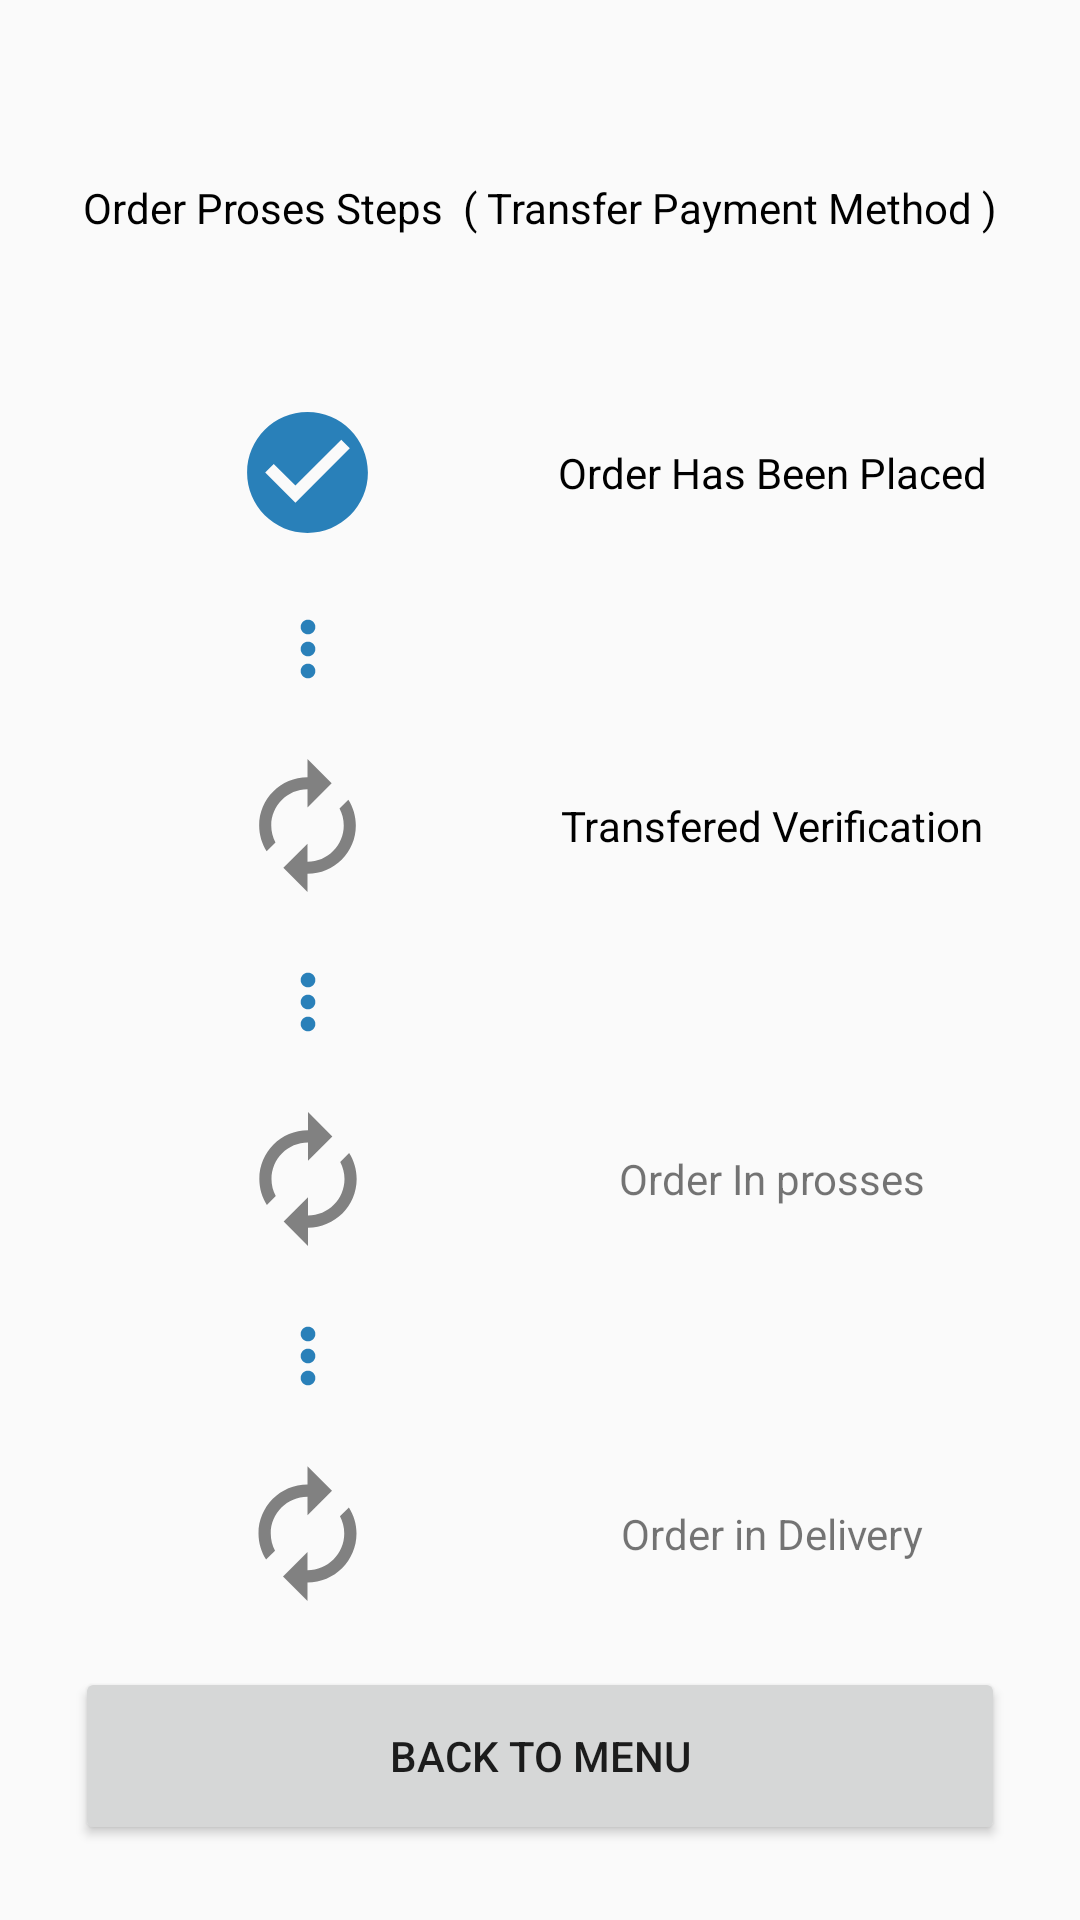

Point at icon controls on the screen. Image size 1080w x 1920h, points as [x,y].
garis: [308,649], [308,1002], [308,1356]
loading: [307,825], [308,1179], [307,1533]
order check tracking: [307,472]
